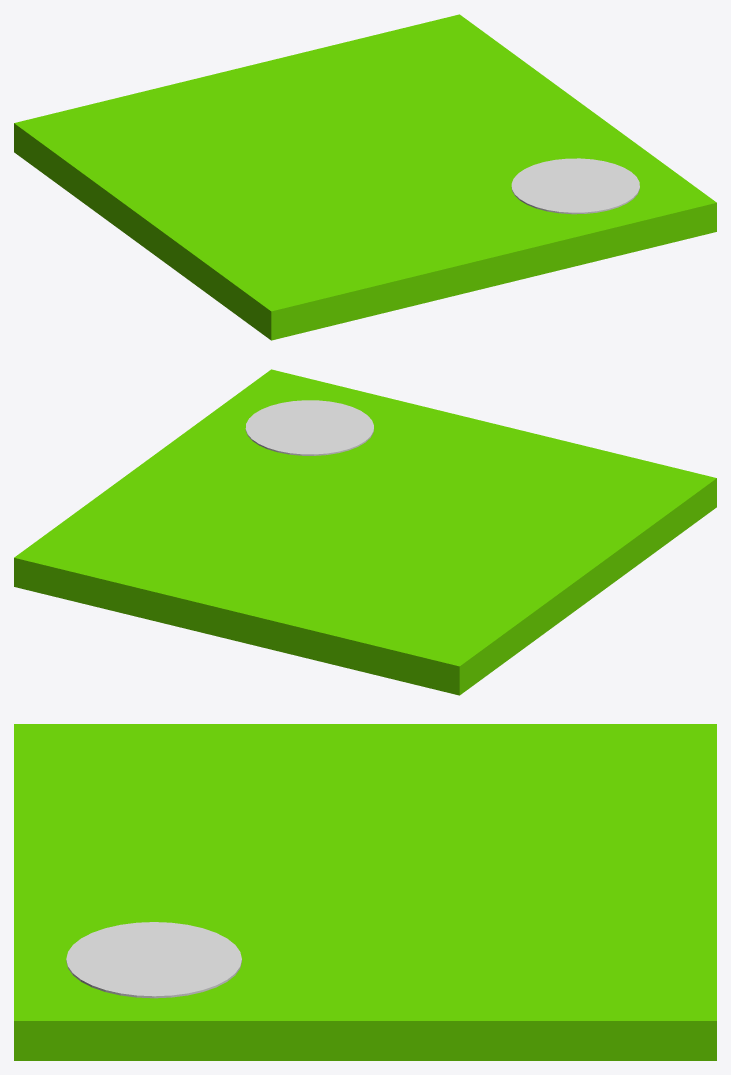
Rendered from BlockTypeTee-1.fbx.
The picture shows the model from 3 angles, top to bottom: view 1: azimuth 30°, elevation 25°; view 2: azimuth 150°, elevation 25°; view 3: azimuth 270°, elevation 25°; orthographic projection. The views are drawn at different scales.
Visible parts, largest first — view 1: Cube, Cylinder; view 2: Cube, Cylinder; view 3: Cube, Cylinder.
Part boxes in pixels (left/top/right/bottom): Cube: left=14, top=14, right=716, bottom=340; Cylinder: left=511, top=158, right=639, bottom=214; Cube: left=14, top=369, right=716, bottom=695; Cylinder: left=245, top=400, right=373, bottom=455; Cube: left=14, top=724, right=716, bottom=1060; Cylinder: left=66, top=922, right=241, bottom=998.
Bounding box in the file's own units: 800 × 52.62 × 800.
